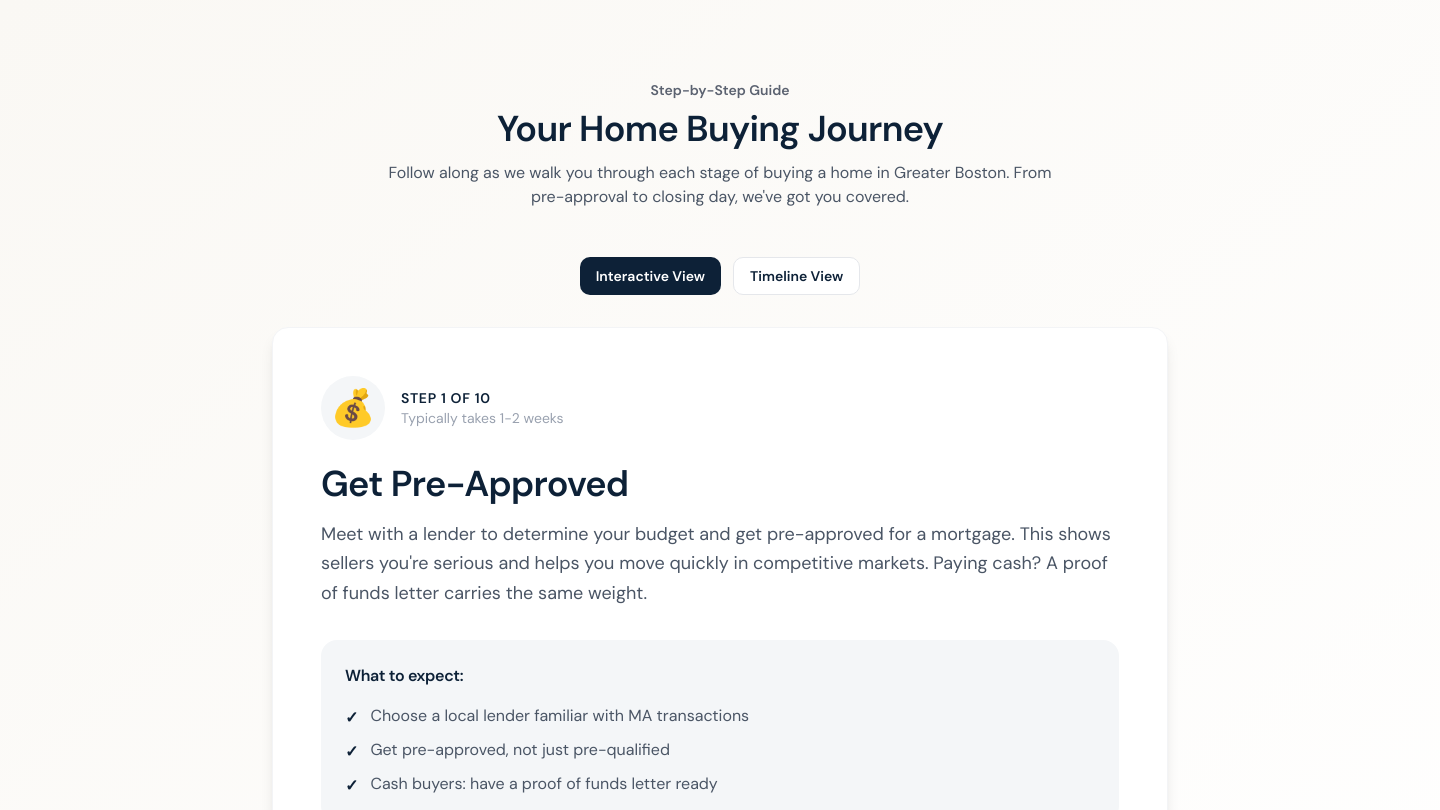
BuyingProcessGuide › switches back to carousel view when Interactive View button is clicked
Click the button "Timeline View" at (797, 276), box [733, 257, 860, 295]
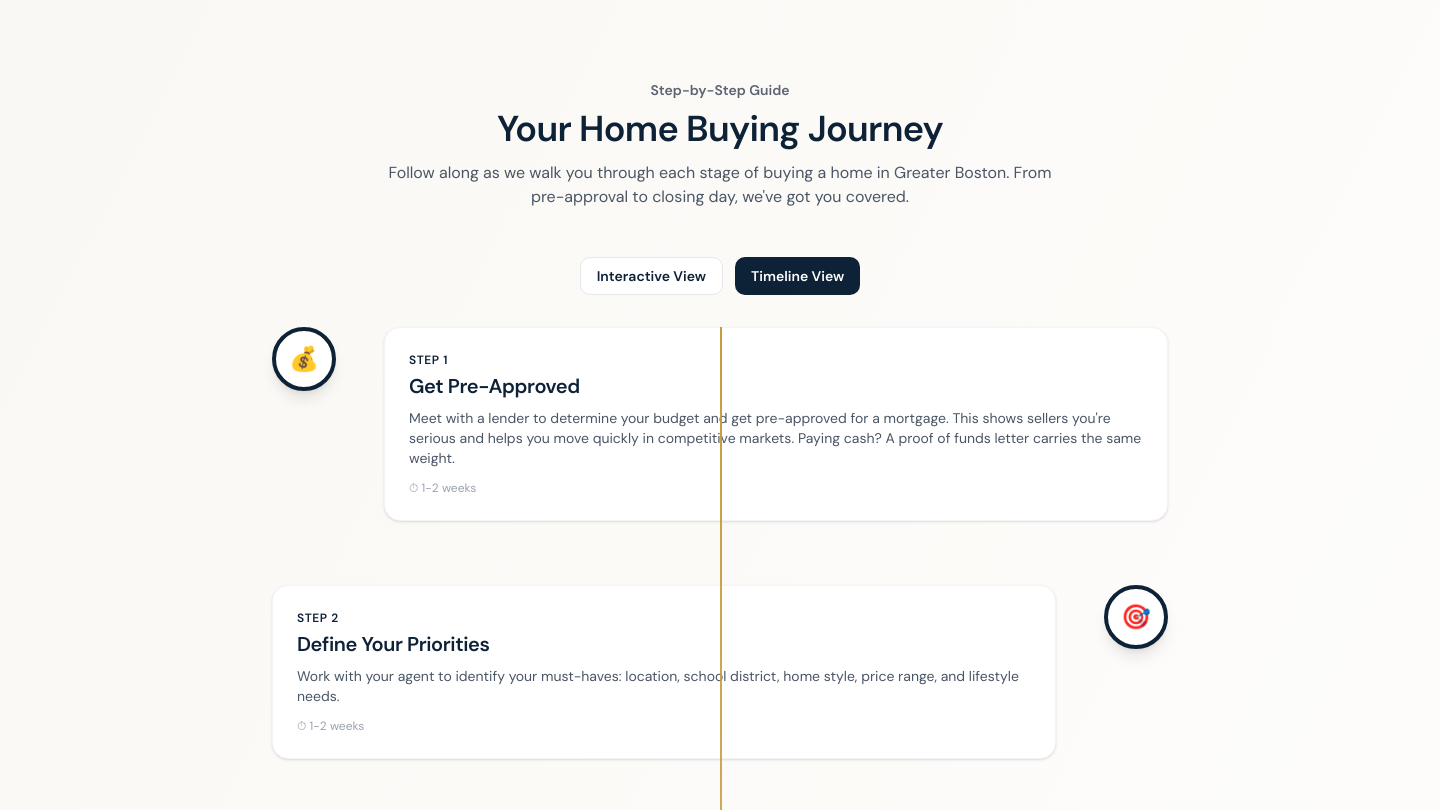
Check: the heading "Get Pre-Approved" is shown, box [409, 373, 580, 399]
Click the button "Interactive View" at (651, 276), box [580, 257, 723, 295]
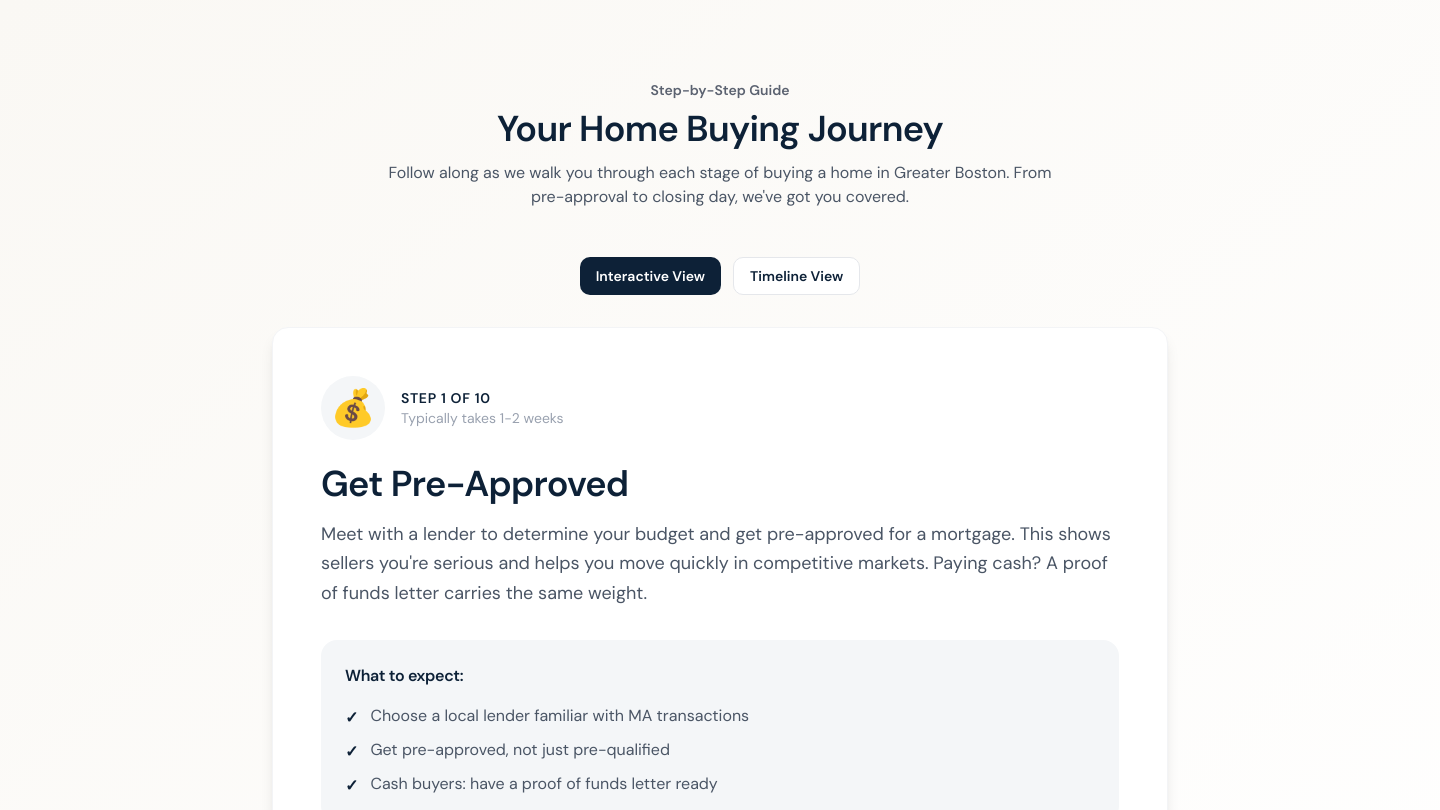
Check: the text "Step 1 of 10" is shown, box [401, 389, 491, 407]
